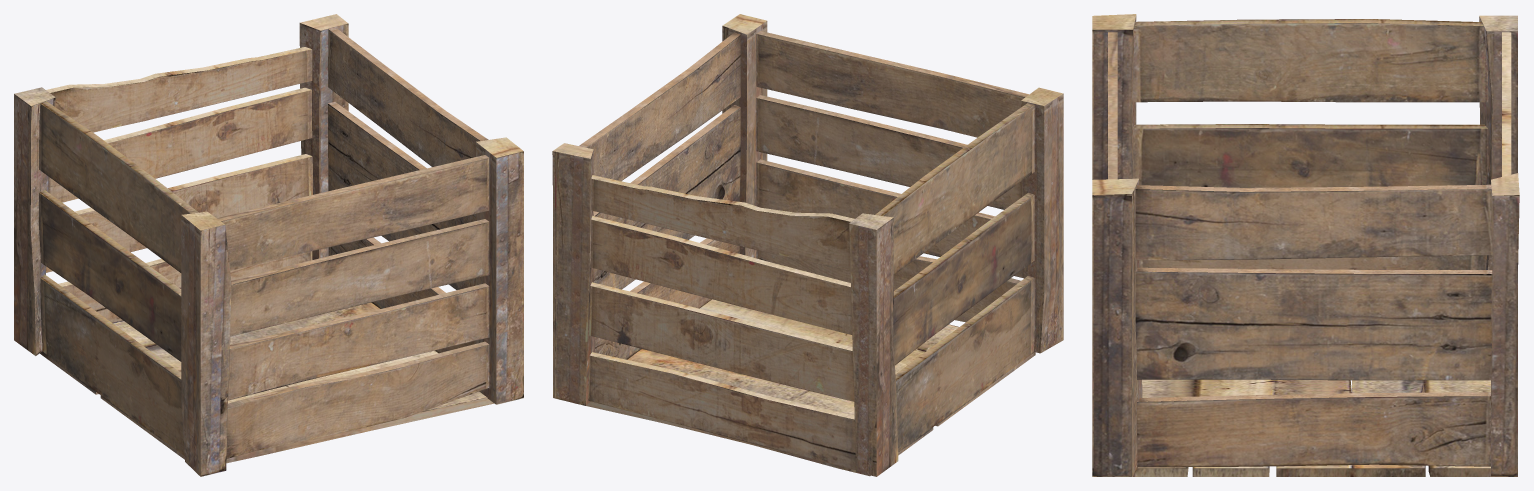
The model's file is crate2.obj.
The picture shows the model from 3 angles, left to right: view 1: azimuth 30°, elevation 25°; view 2: azimuth 150°, elevation 25°; view 3: azimuth 270°, elevation 25°; orthographic projection. The views are drawn at different scales.
Visible parts, largest first — view 1: Mesh18, Mesh17, Mesh15, Mesh16, Mesh31, Mesh8, Mesh9, Mesh7, Mesh26, Mesh24, Mesh32, Mesh1 (+7 smaller); view 2: Mesh23, Mesh18, Mesh25, Mesh24, Mesh26, Mesh8, Mesh33, Mesh17, Mesh9, Mesh7, Mesh34, Mesh1 (+7 smaller); view 3: Mesh3, Mesh9, Mesh1, Mesh2, Mesh7, Mesh32, Mesh13, Mesh34, Mesh31, Mesh33, Mesh8, Mesh18 (+1 smaller).
Part boxes in pixels (x1,y1,x2,y2): Mesh18: (217, 155, 489, 270); Mesh17: (230, 219, 489, 336); Mesh15: (226, 341, 489, 458); Mesh16: (228, 283, 489, 400); Mesh31: (181, 211, 231, 476); Mesh8: (40, 274, 184, 455); Mesh9: (39, 101, 198, 272); Mesh7: (39, 190, 181, 361); Mesh26: (46, 47, 312, 132); Mesh24: (50, 87, 312, 202); Mesh32: (474, 137, 523, 404); Mesh1: (328, 27, 488, 166); Mesh23: (589, 282, 854, 401); Mesh18: (756, 31, 1028, 137); Mesh25: (588, 352, 855, 469); Mesh24: (590, 216, 852, 334); Mesh26: (591, 175, 854, 270); Mesh8: (895, 276, 1034, 451); Mesh33: (848, 213, 898, 476); Mesh17: (756, 95, 1021, 209); Mesh9: (875, 103, 1034, 274); Mesh7: (893, 193, 1034, 365); Mesh34: (552, 143, 594, 405); Mesh1: (579, 32, 740, 181); Mesh3: (1135, 267, 1492, 380); Mesh9: (1132, 19, 1488, 102); Mesh1: (1135, 184, 1492, 260); Mesh2: (1137, 392, 1490, 467); Mesh7: (1133, 124, 1488, 187); Mesh32: (1092, 178, 1142, 476); Mesh13: (1132, 379, 1490, 476); Mesh34: (1491, 173, 1519, 476); Mesh31: (1092, 14, 1136, 179); Mesh33: (1479, 15, 1517, 269); Mesh8: (1139, 255, 1486, 269); Mesh18: (1108, 32, 1117, 179).
Size of the model in its own units: 3.99 by 3.01 by 4.
1 material, 1 textured.
